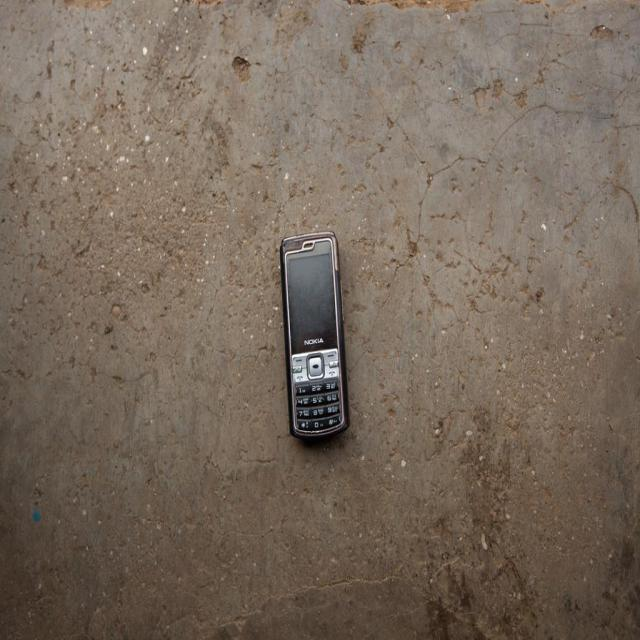Phone: (279, 230, 350, 443)
